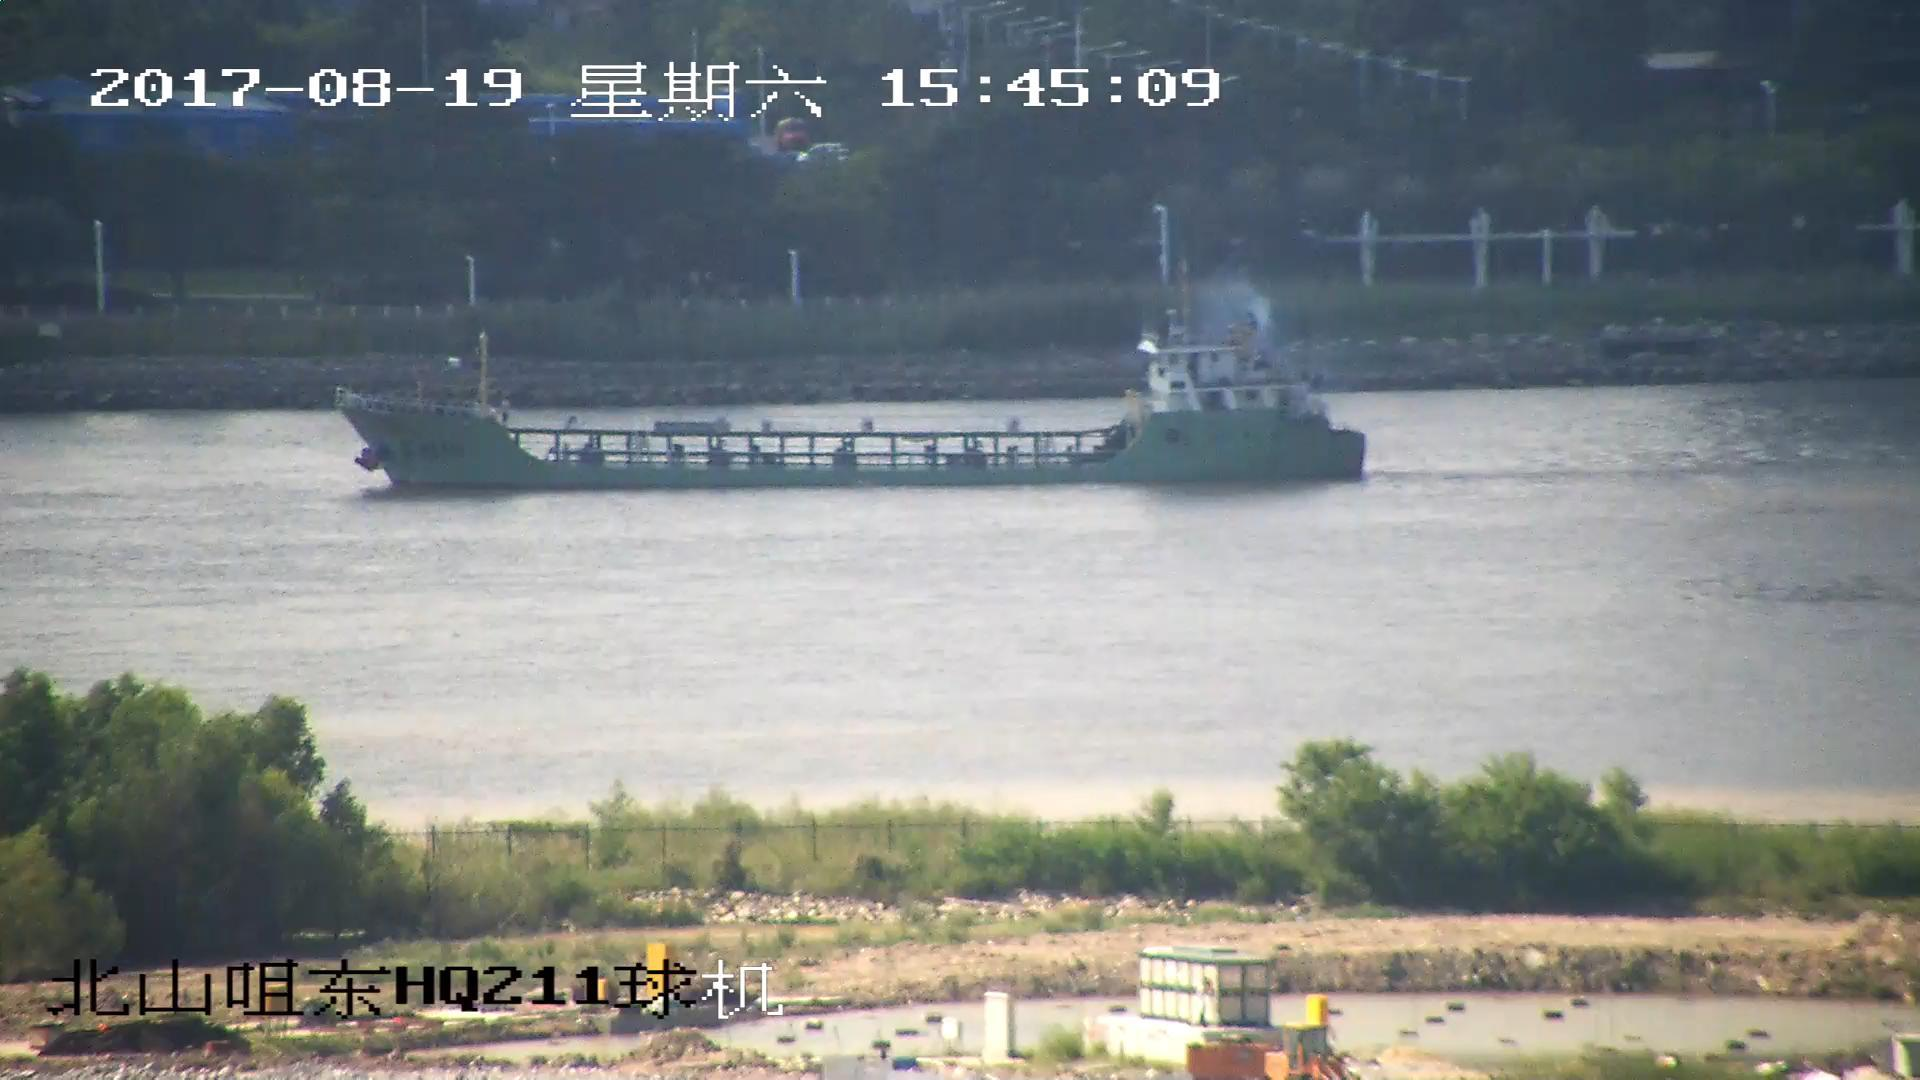Ship: (340, 277, 1369, 487)
